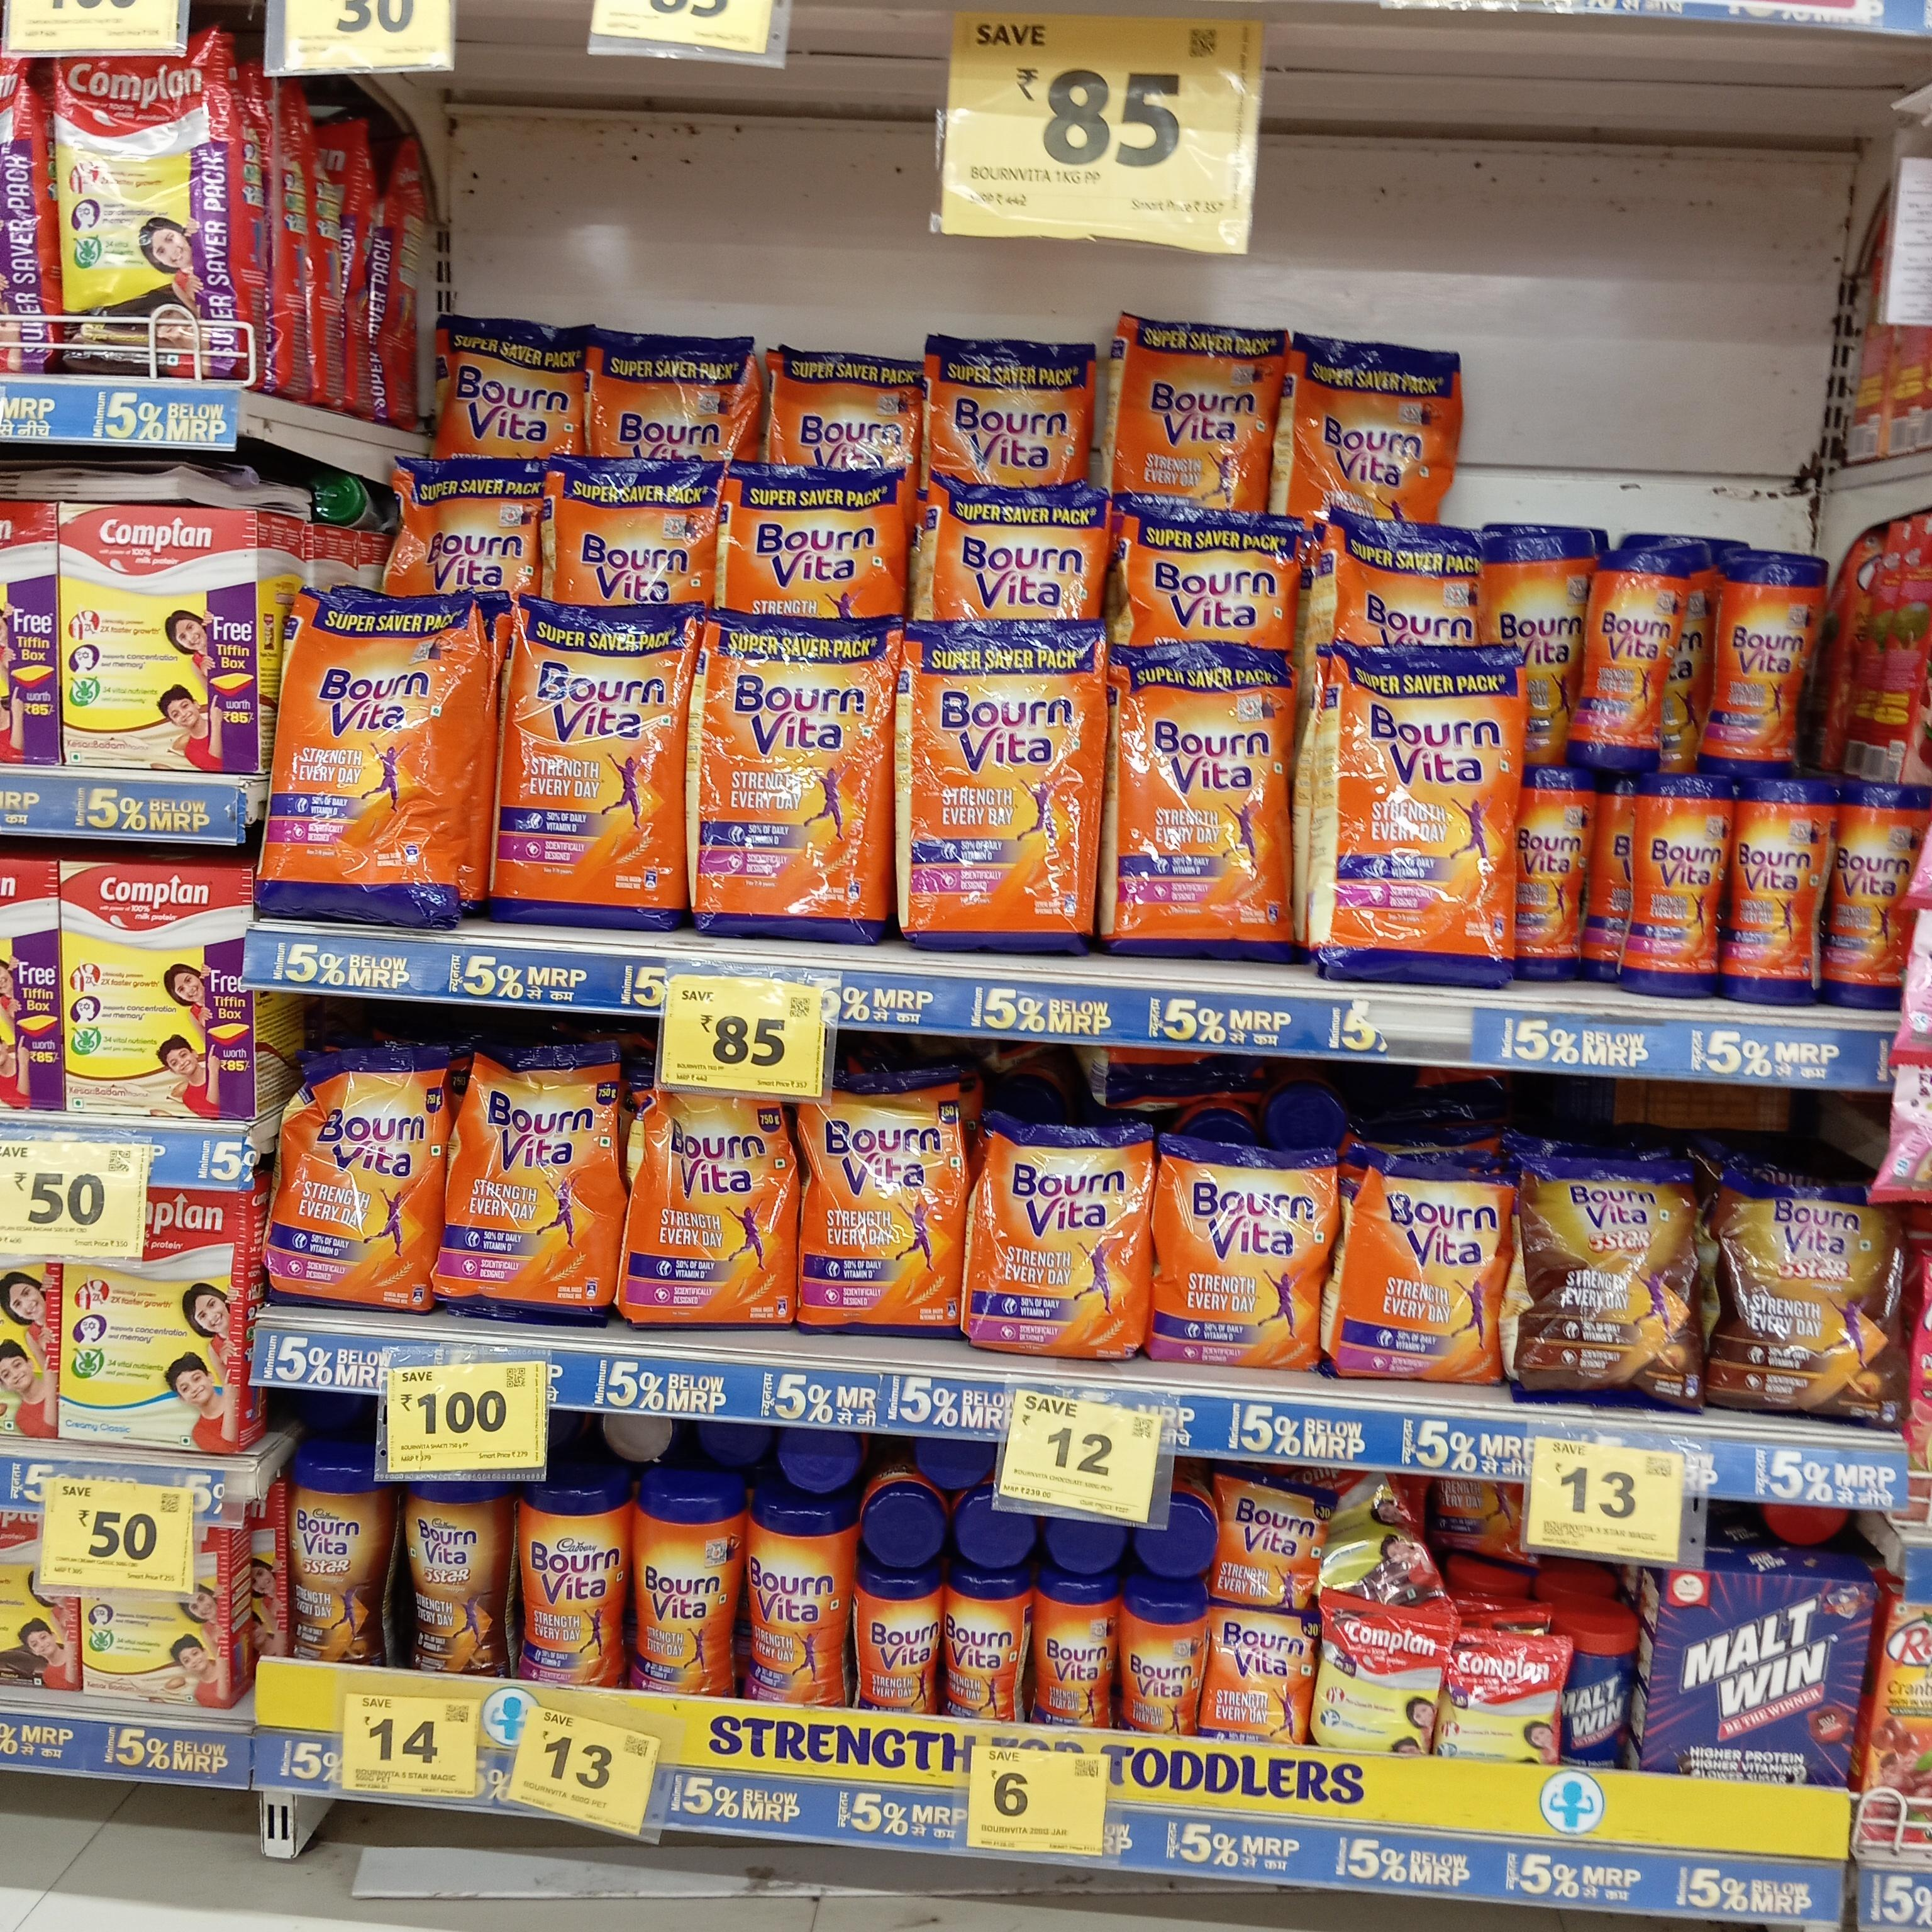BOURN_VITA_1_KG_POUCH: (265, 607, 472, 916), (908, 626, 1100, 950), (699, 619, 895, 934), (1341, 649, 1514, 991), (499, 614, 685, 920), (1109, 663, 1293, 962), (1288, 345, 1458, 533), (1123, 315, 1274, 506), (936, 341, 1093, 481)
BOURN_VITA_200_G_JAR: (1118, 1580, 1203, 1743), (1035, 1569, 1113, 1730), (945, 1566, 1024, 1720), (865, 1573, 941, 1716)
BOURN_VITA_500_G_JAR: (517, 1476, 625, 1688), (1828, 778, 1925, 1012), (1725, 780, 1826, 1003), (1583, 548, 1684, 771), (635, 1484, 741, 1695), (1709, 561, 1815, 771), (747, 1500, 849, 1706), (1640, 773, 1725, 996), (1520, 766, 1585, 987)
BOURN_VITA_500_G_POUCH: (1150, 1148, 1334, 1369), (975, 1127, 1150, 1357), (1362, 1164, 1504, 1387)
BOURN_VITA_750_G_POUCH: (442, 1047, 612, 1316), (803, 1076, 966, 1338), (283, 1049, 433, 1318), (651, 1088, 793, 1332)
BOURN_VITA_75_G_POUCH: (1210, 1610, 1311, 1750), (1215, 1479, 1322, 1603)
BOURN_VITA_FIVE_STAR_MAGIC_500_G_JAR: (287, 1458, 387, 1668), (403, 1476, 506, 1677)
BOURN_VITA_FIVE_STAR_MAGIC_500_G_POUCH: (1534, 1159, 1706, 1405), (1721, 1184, 1886, 1421)
COMPLAN_KESAR_BADAM_500_GMS_PACK: (60, 506, 257, 771), (62, 858, 246, 1108)
COMPLAN_RC_POUCH_700_GMS_12: (64, 50, 249, 380)
